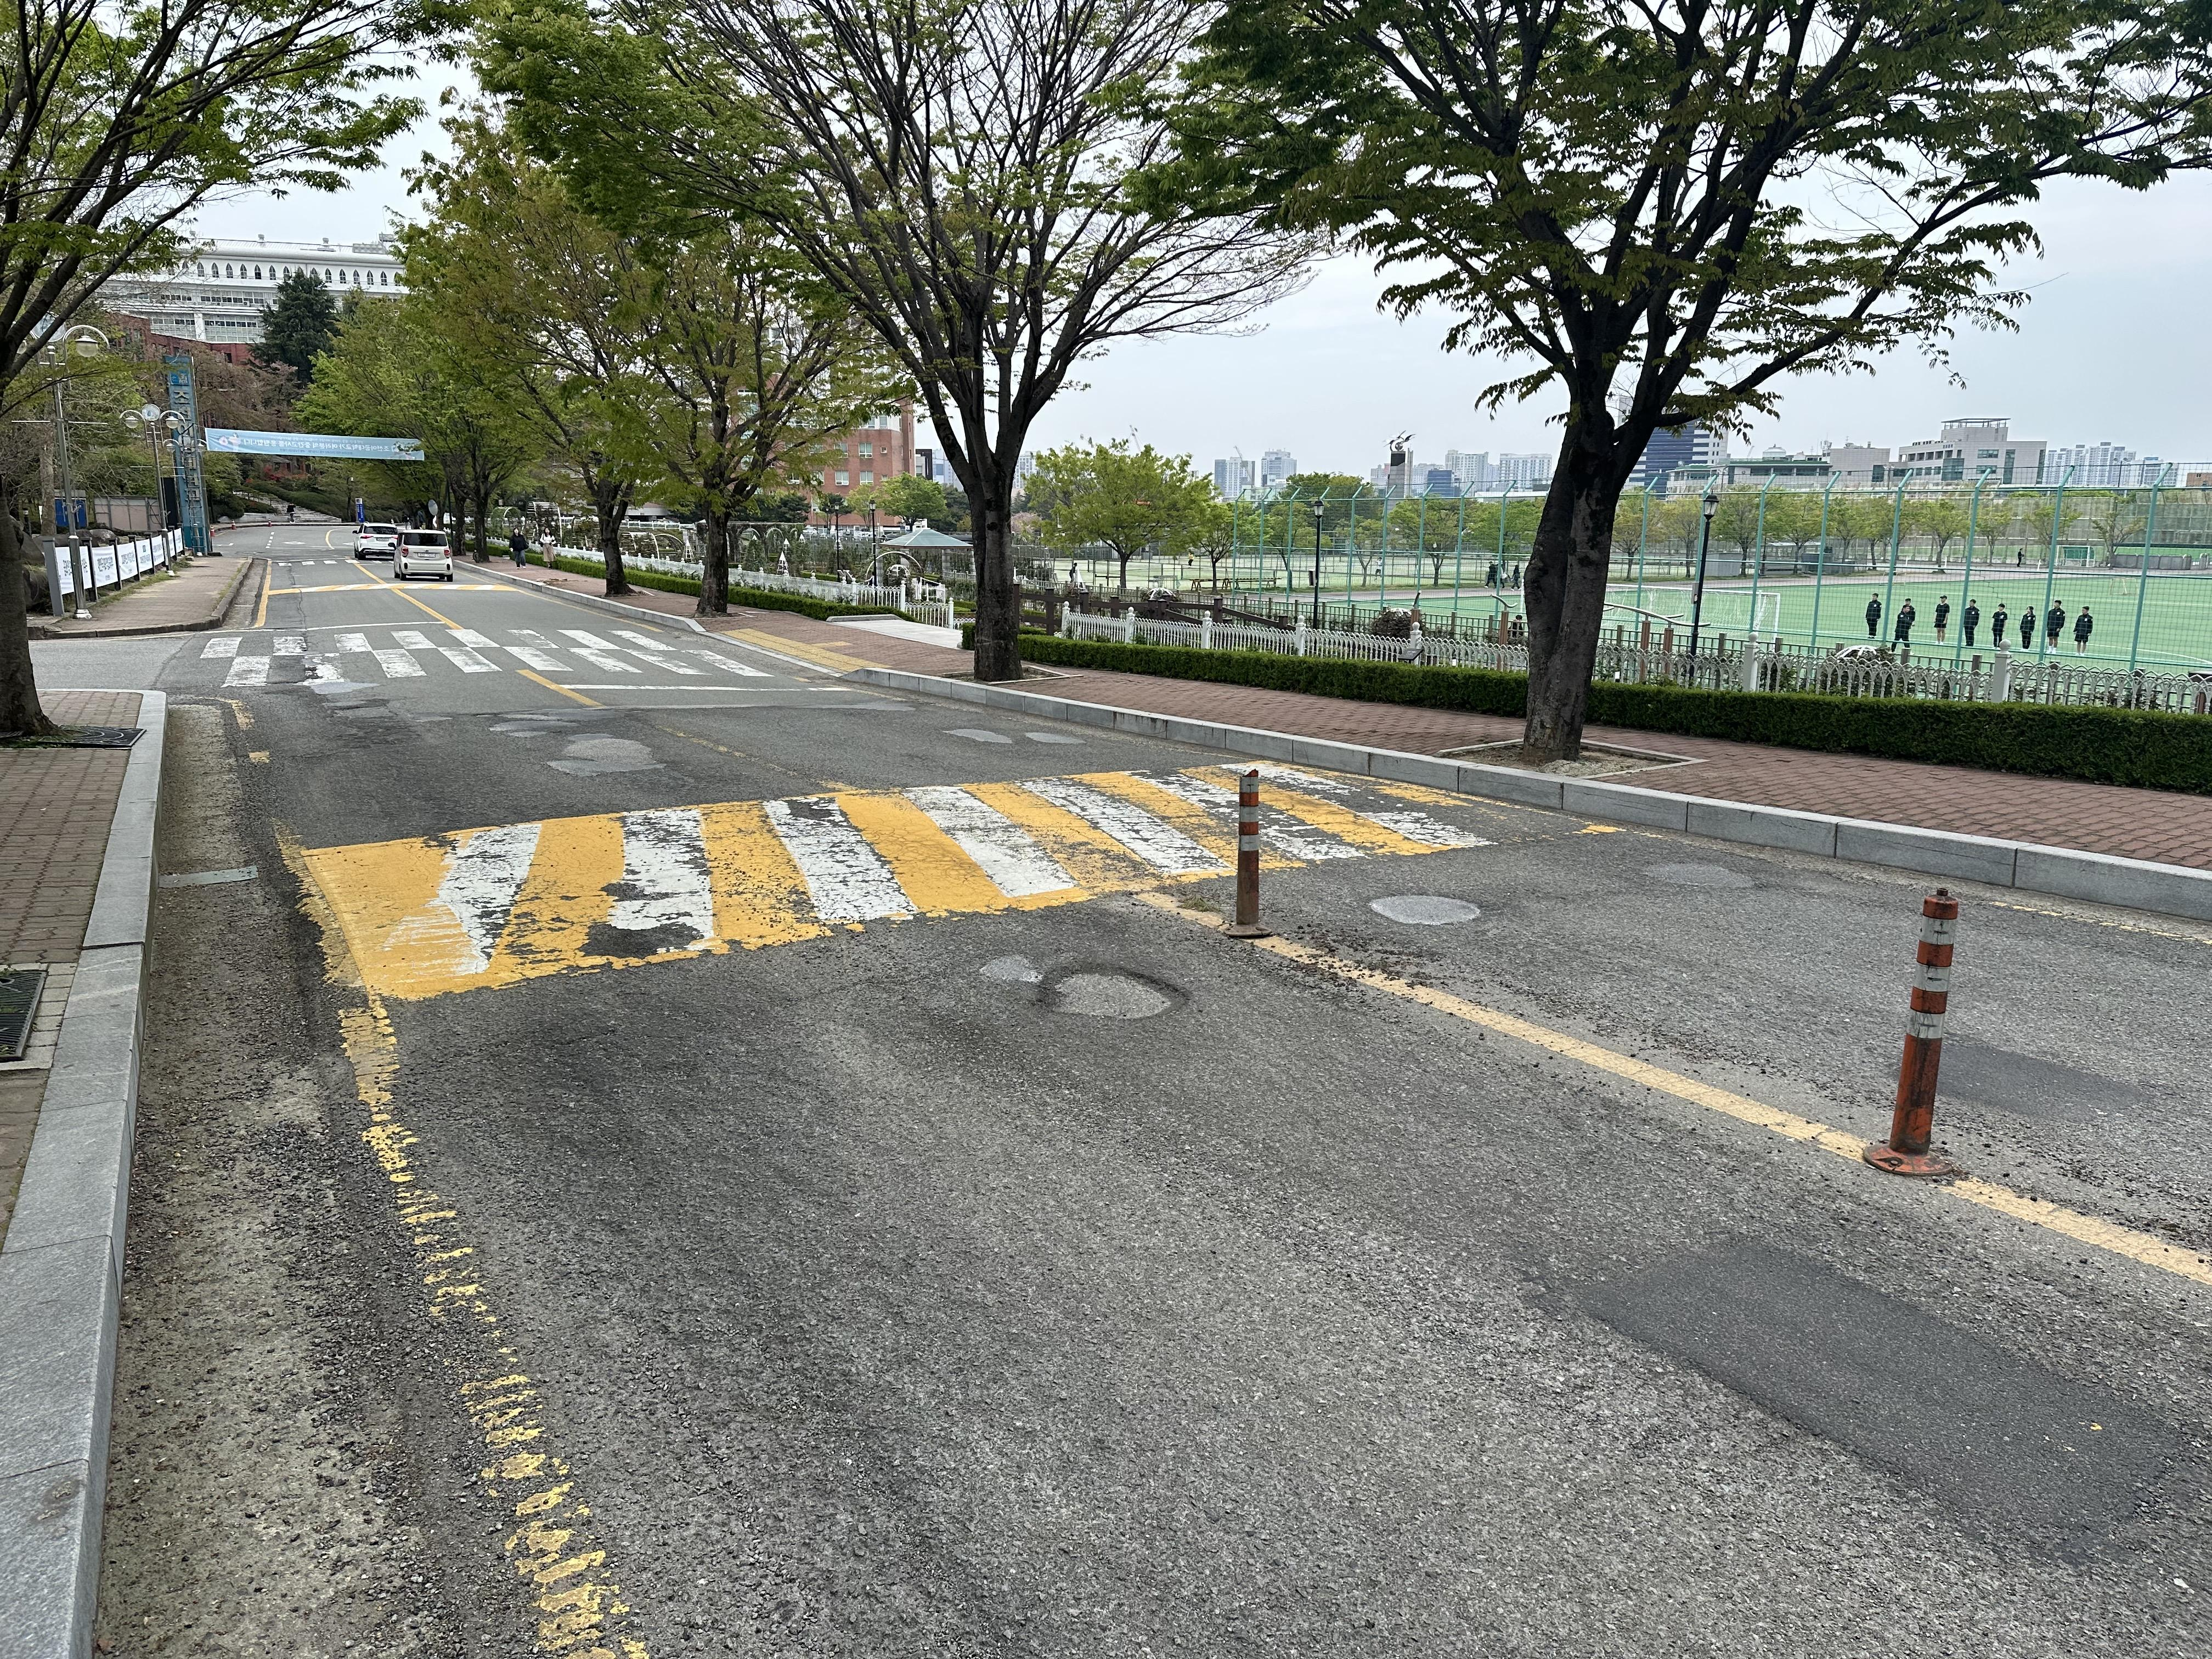pothole: (1035, 927, 1197, 1046)
